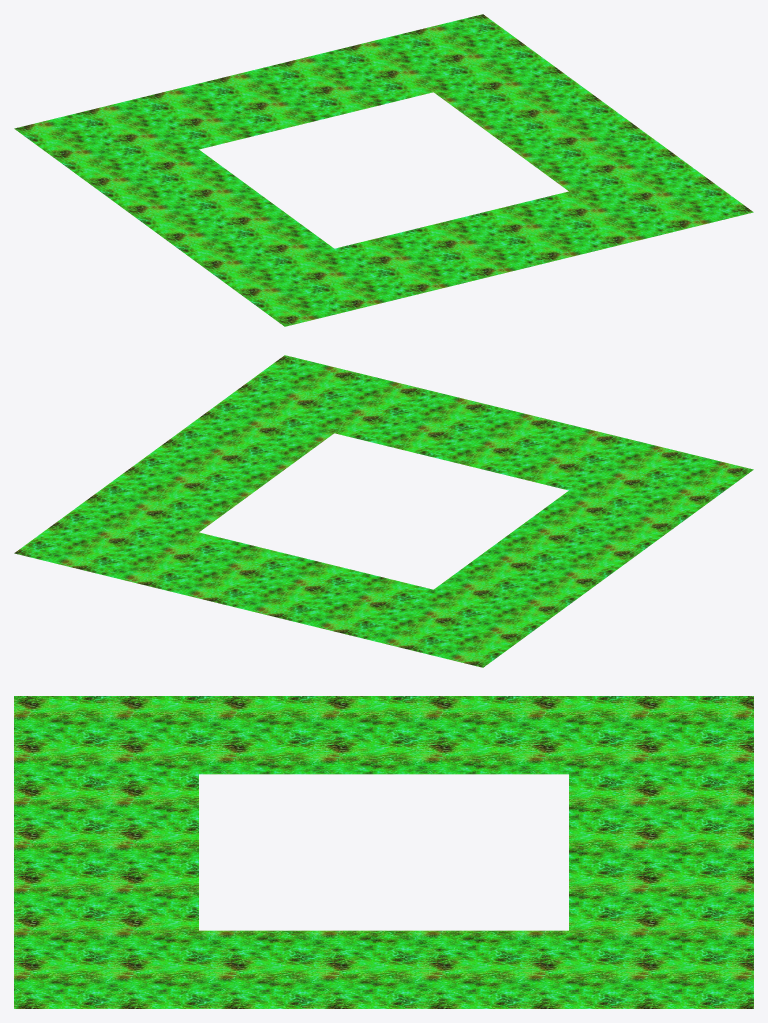
3 views of the same model, one above another, from view 1: azimuth 30°, elevation 25°; view 2: azimuth 150°, elevation 25°; view 3: azimuth 270°, elevation 25° (orthographic). The views are drawn at different scales.
Visible parts, largest first — view 1: Plane03; view 2: Plane03; view 3: Plane03.
Boxes of the visible parts, box(x1,y1,x2,y2) form: Plane03: box(14, 14, 753, 326); Plane03: box(14, 355, 753, 667); Plane03: box(14, 696, 753, 1008).
Size of the model in its own units: 1193 by 0 by 1193.
